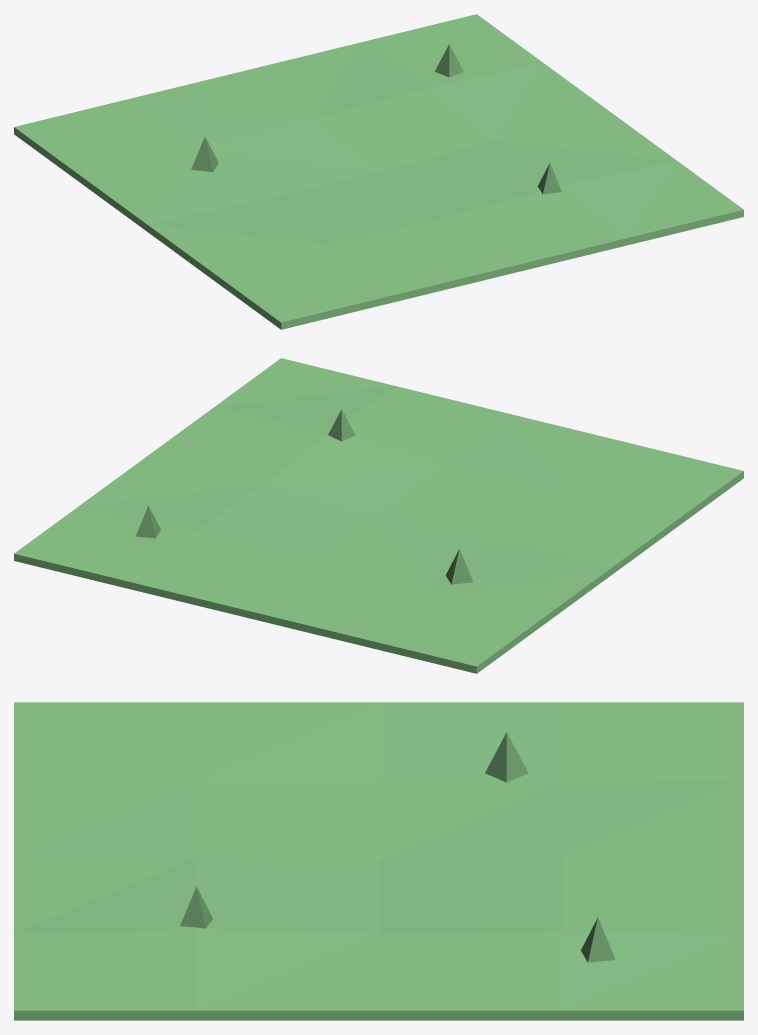
File: kit_mata_air_v001.glb
3 views of the same model, one above another, from view 1: azimuth 30°, elevation 25°; view 2: azimuth 150°, elevation 25°; view 3: azimuth 270°, elevation 25° (orthographic). The views are drawn at different scales.
Parts seen in each view (by area): view 1: lantai_mata_air; view 2: lantai_mata_air; view 3: lantai_mata_air.
Part boxes in pixels (x1,y1,x2,y2): lantai_mata_air: (14,14,743,329); lantai_mata_air: (14,358,743,673); lantai_mata_air: (14,702,743,1020).
Size of the model in its own units: 4 by 0.3 by 4.
